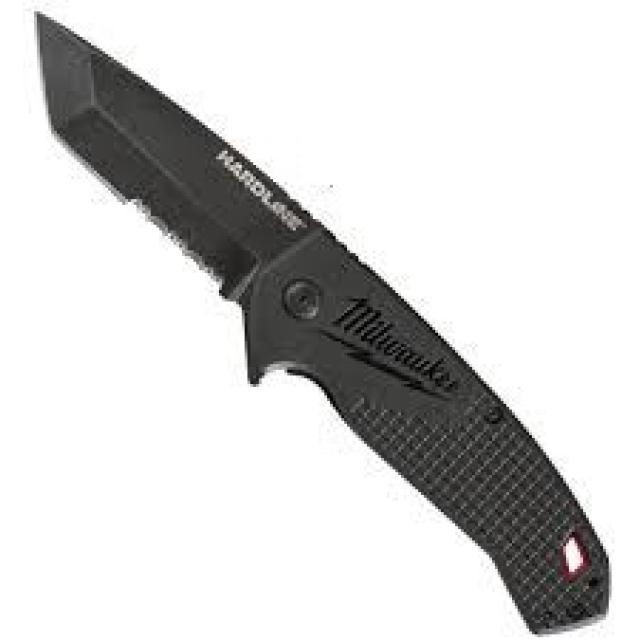knife: (21, 8, 624, 640)
